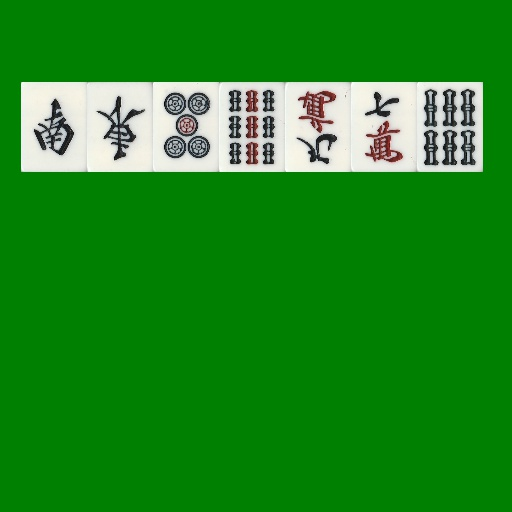5p: (153, 82, 219, 172)
6s: (417, 82, 483, 172)
7m: (351, 82, 417, 172)
9m: (285, 82, 351, 172)
9s: (219, 82, 285, 172)
east: (87, 82, 153, 172)
south: (21, 82, 87, 172)
